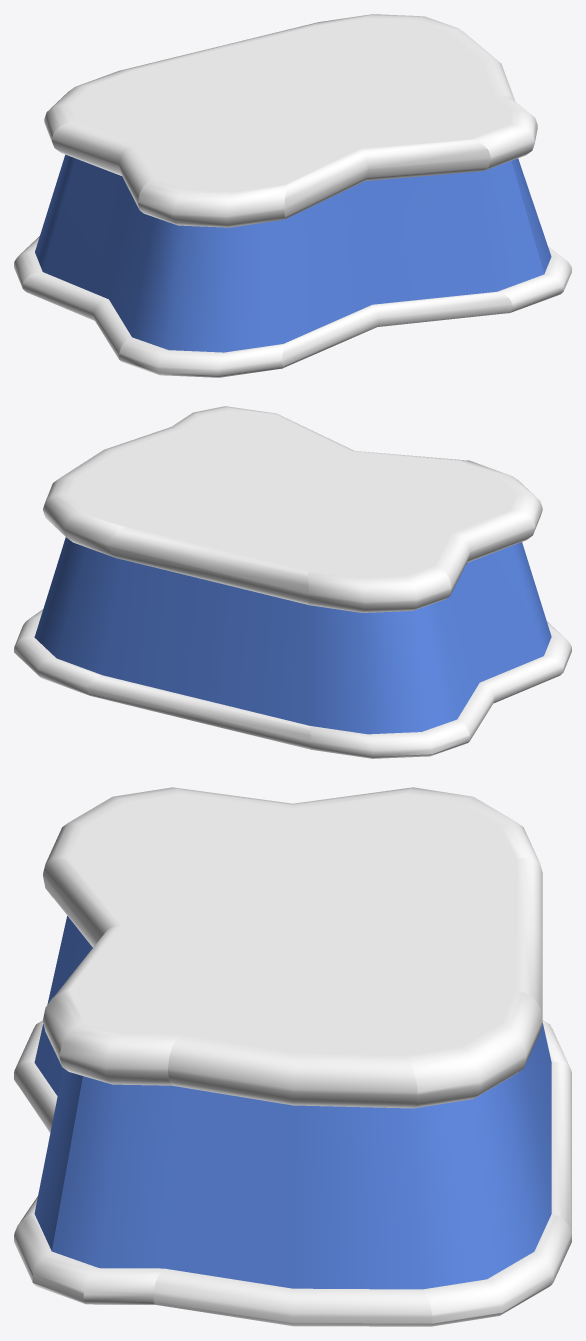
Rendered from StoneWall041.fbx.
The picture shows the model from 3 angles, top to bottom: view 1: azimuth 30°, elevation 25°; view 2: azimuth 150°, elevation 25°; view 3: azimuth 270°, elevation 25°; orthographic projection. The views are drawn at different scales.
Parts seen in each view (by area): view 1: StoneWall041; view 2: StoneWall041; view 3: StoneWall041.
Boxes of the visible parts, left/top/right/bottom form: StoneWall041: left=14, top=14, right=571, bottom=377; StoneWall041: left=14, top=406, right=571, bottom=758; StoneWall041: left=14, top=787, right=571, bottom=1326.
Size of the model in its own units: 711 by 246 by 514.
